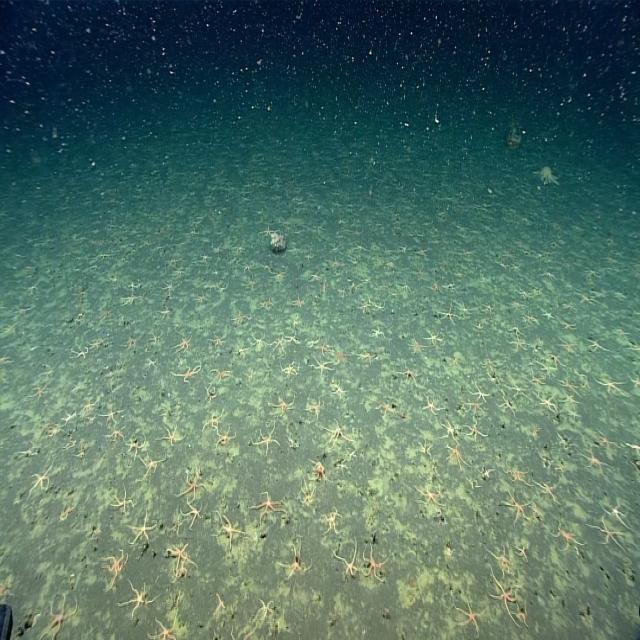brittle-stars: (486, 568, 526, 624), (36, 598, 78, 640), (118, 580, 157, 619), (587, 518, 626, 550), (280, 542, 312, 580), (331, 537, 358, 581), (550, 522, 584, 556), (216, 512, 245, 551), (249, 494, 284, 526), (484, 545, 517, 578), (166, 544, 196, 580), (498, 493, 535, 522), (455, 596, 483, 634), (577, 445, 611, 476), (103, 550, 128, 592), (27, 462, 53, 498), (363, 547, 389, 582), (147, 611, 178, 640), (132, 513, 156, 548), (251, 427, 280, 455), (601, 501, 629, 530), (535, 478, 562, 506), (594, 374, 626, 396), (415, 482, 443, 507), (325, 420, 351, 446), (502, 465, 532, 487), (321, 507, 342, 538), (182, 500, 203, 530), (181, 470, 202, 500), (142, 453, 167, 478), (445, 443, 469, 469), (308, 459, 331, 486), (159, 425, 184, 449), (177, 360, 200, 386), (594, 427, 617, 452), (110, 491, 132, 517), (462, 417, 485, 440), (270, 398, 296, 417), (201, 412, 223, 434), (255, 599, 276, 622), (397, 366, 423, 384), (469, 381, 490, 403), (436, 305, 459, 325), (124, 436, 146, 456), (586, 336, 608, 356), (438, 418, 457, 440), (554, 431, 576, 450), (101, 409, 124, 427), (214, 429, 237, 447), (60, 500, 78, 522), (18, 442, 40, 460), (298, 482, 316, 504), (496, 393, 514, 415), (79, 398, 99, 417), (558, 314, 577, 334), (405, 338, 426, 356), (174, 333, 192, 354), (330, 381, 348, 402), (231, 625, 256, 640), (211, 368, 233, 385), (312, 358, 334, 375), (25, 386, 48, 402), (559, 338, 579, 356), (505, 378, 527, 394), (306, 398, 323, 418), (422, 395, 439, 415), (280, 362, 298, 380), (417, 438, 435, 456), (538, 393, 557, 410), (208, 334, 228, 350), (628, 371, 640, 397), (271, 334, 285, 356), (547, 352, 565, 369), (560, 379, 580, 394), (250, 336, 270, 351), (422, 334, 444, 347), (282, 332, 301, 347), (574, 290, 594, 304), (109, 427, 126, 443), (583, 264, 600, 280), (507, 335, 525, 350), (0, 321, 18, 336), (376, 400, 392, 416), (514, 544, 530, 560), (357, 352, 376, 365), (62, 410, 77, 426), (230, 314, 250, 326), (358, 301, 373, 317), (528, 373, 546, 386), (269, 269, 287, 282), (559, 394, 582, 404), (372, 324, 386, 340), (147, 333, 163, 347), (482, 358, 498, 372), (234, 344, 247, 361), (47, 426, 65, 438), (335, 459, 349, 474), (85, 339, 104, 350), (286, 433, 299, 449), (482, 465, 495, 481), (238, 261, 254, 274), (214, 596, 226, 613), (480, 302, 497, 314), (509, 324, 524, 337), (458, 303, 473, 316), (0, 354, 16, 366), (119, 296, 138, 306), (13, 305, 32, 315), (216, 281, 229, 295), (523, 311, 537, 324), (510, 300, 524, 313), (74, 447, 88, 460), (72, 349, 90, 359), (561, 300, 576, 312), (127, 280, 142, 292), (257, 299, 273, 310), (334, 352, 350, 363), (609, 288, 625, 299), (61, 440, 77, 451), (581, 373, 590, 392), (198, 252, 211, 265), (203, 388, 216, 401), (352, 242, 366, 254), (162, 281, 173, 296), (242, 281, 258, 291), (124, 338, 137, 350), (372, 302, 386, 313), (518, 290, 532, 301), (412, 265, 426, 276), (540, 272, 555, 282), (308, 271, 320, 283), (306, 338, 318, 350), (193, 292, 206, 303), (100, 308, 113, 319), (261, 228, 278, 236), (318, 344, 330, 355), (624, 442, 640, 450), (148, 358, 159, 369), (243, 371, 254, 382), (626, 346, 638, 356), (159, 308, 171, 318), (294, 296, 303, 309), (543, 310, 553, 321), (402, 283, 410, 294), (432, 280, 438, 292), (444, 283, 454, 290)
